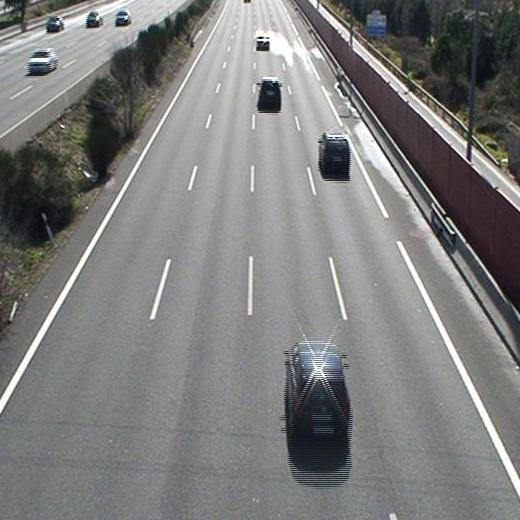car: (283, 342, 350, 448), (318, 131, 350, 176), (258, 78, 282, 108), (255, 36, 270, 50)
